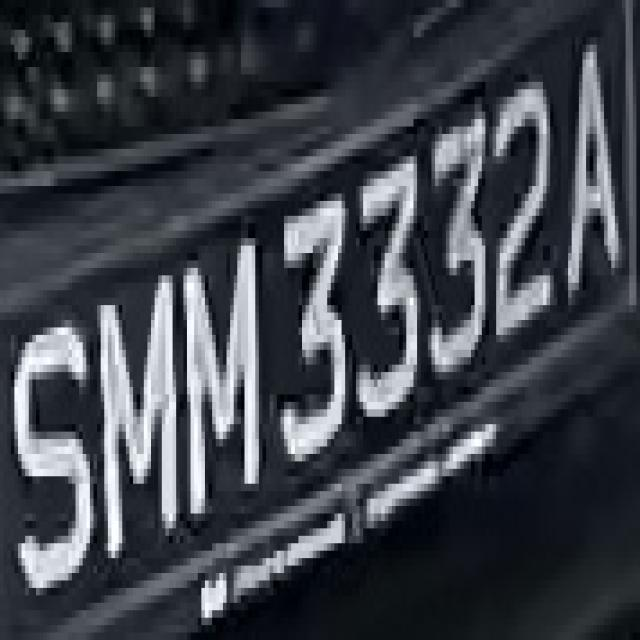2: (486, 74, 558, 364)
3: (342, 149, 424, 439), (277, 164, 352, 454), (417, 97, 489, 387)
A: (557, 22, 626, 320)
M: (172, 216, 277, 551), (83, 268, 187, 588)
S: (11, 290, 97, 618)
